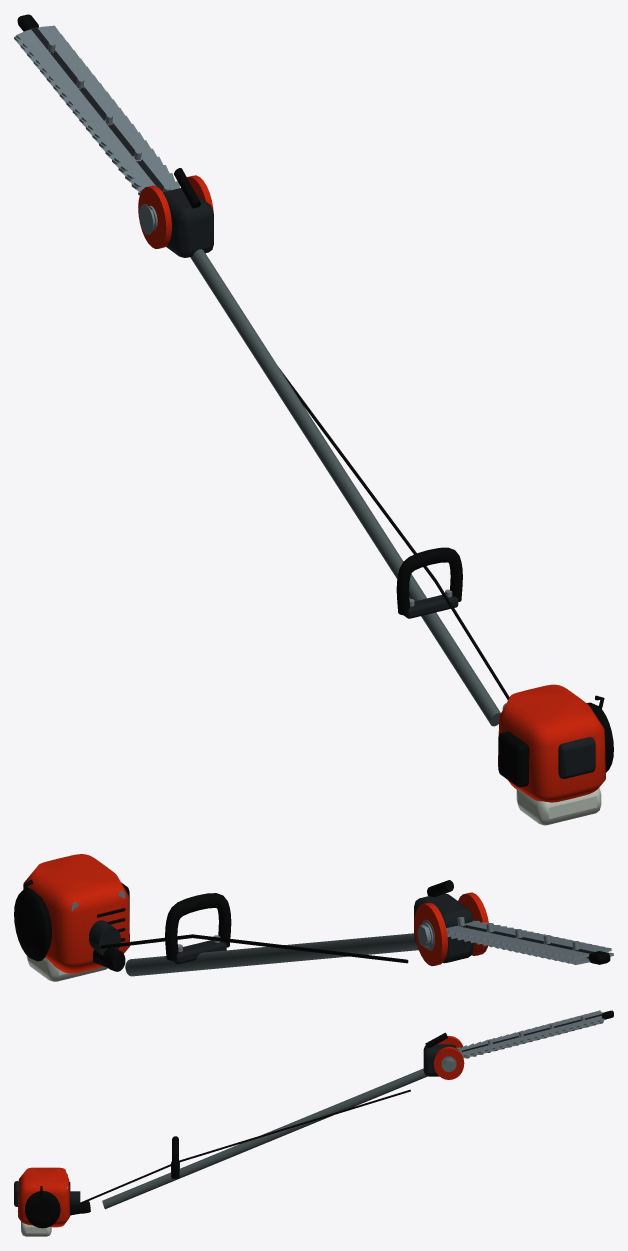
File: ArticulatingHedgeTrimmer.fbx
The picture shows the model from 3 angles, top to bottom: view 1: azimuth 30°, elevation 25°; view 2: azimuth 210°, elevation 25°; view 3: azimuth 270°, elevation 25°; orthographic projection. The views are drawn at different scales.
Parts seen in each view (by area): view 1: ArticulatingHedgeTrimmer__Body; view 2: ArticulatingHedgeTrimmer__Body; view 3: ArticulatingHedgeTrimmer__Body.
Part boxes in pixels (x1=…): ArticulatingHedgeTrimmer__Body: x1=14, y1=14, x2=613, y2=825; ArticulatingHedgeTrimmer__Body: x1=14, y1=854, x2=613, y2=981; ArticulatingHedgeTrimmer__Body: x1=14, y1=1010, x2=613, y2=1236.
Bounding box in the file's own units: 21.93 × 87.5 × 217.
1 material, 1 textured.
